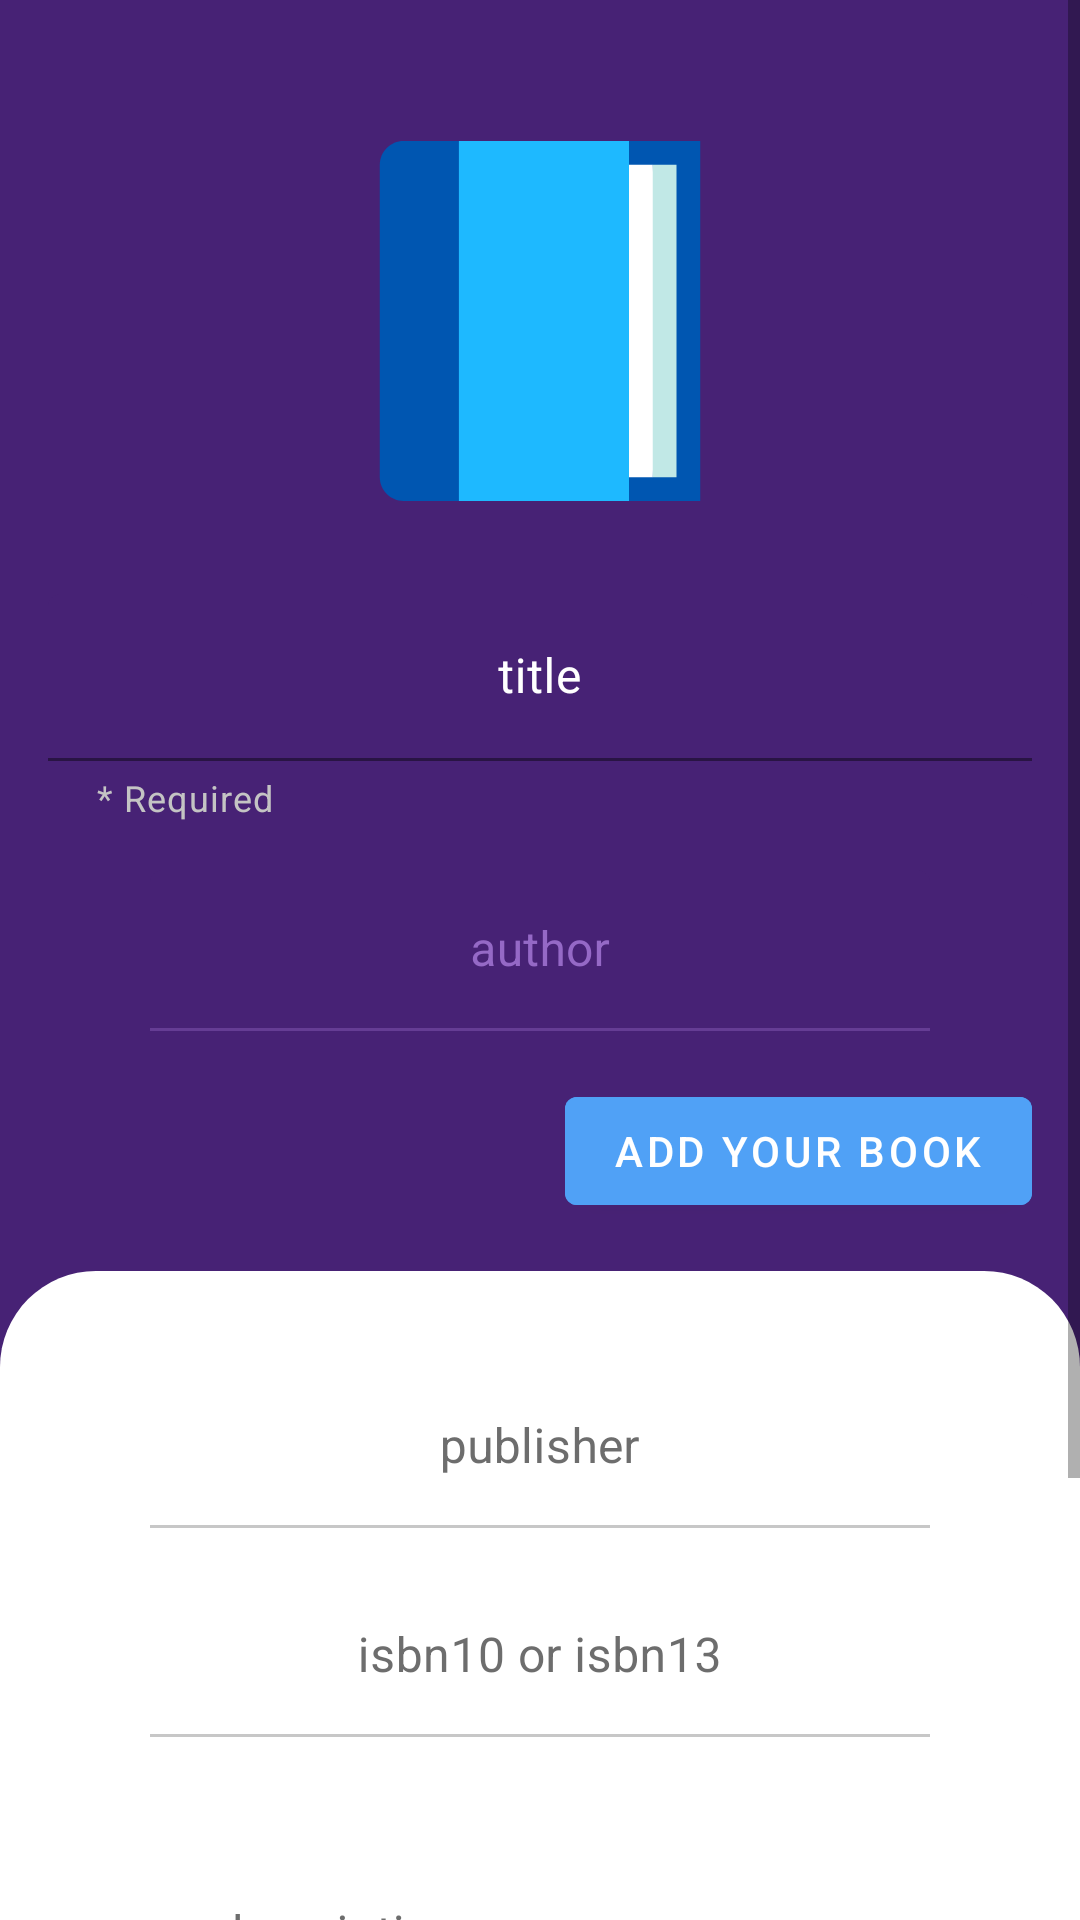

Locate icon controls on the screen. Image size 1080px x 1920px, boxes as (x1, y1, x2, y2).
Book Image: (380, 141, 700, 501)
